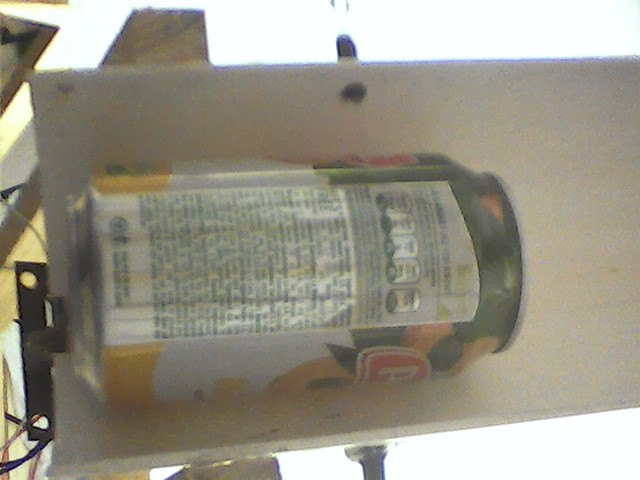lata: (61, 147, 541, 414)
